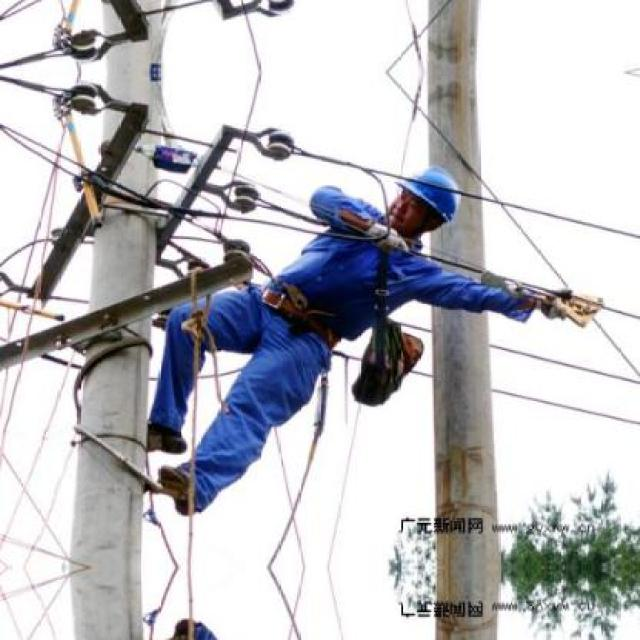helmet: (387, 166, 468, 237)
